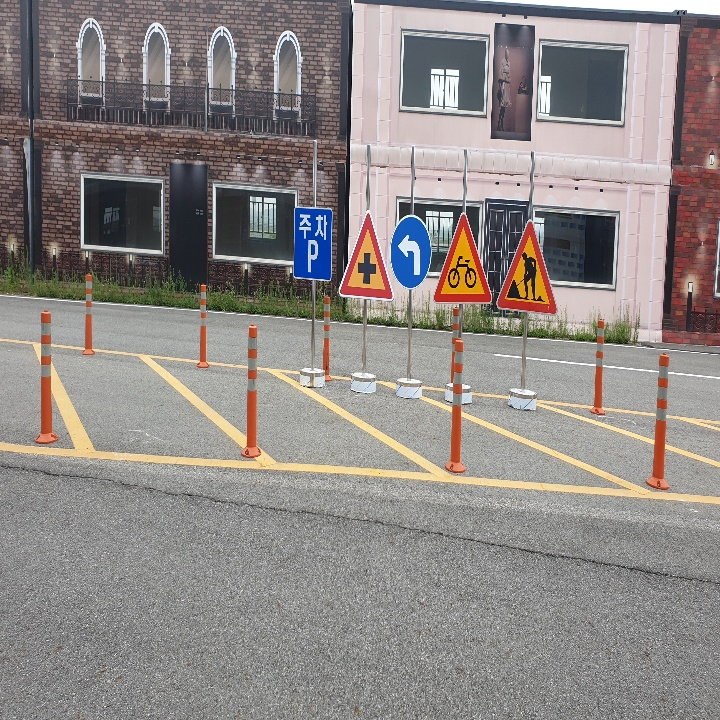bicycle: (435, 213, 490, 302)
const: (507, 247, 551, 306)
inter: (349, 247, 382, 286)
left: (393, 231, 427, 279)
parking: (301, 235, 323, 274)
